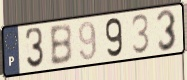3: (155, 8, 178, 53), (24, 26, 46, 70), (131, 13, 151, 56)
9: (77, 20, 98, 63), (105, 17, 124, 59)
B: (48, 22, 74, 68)
